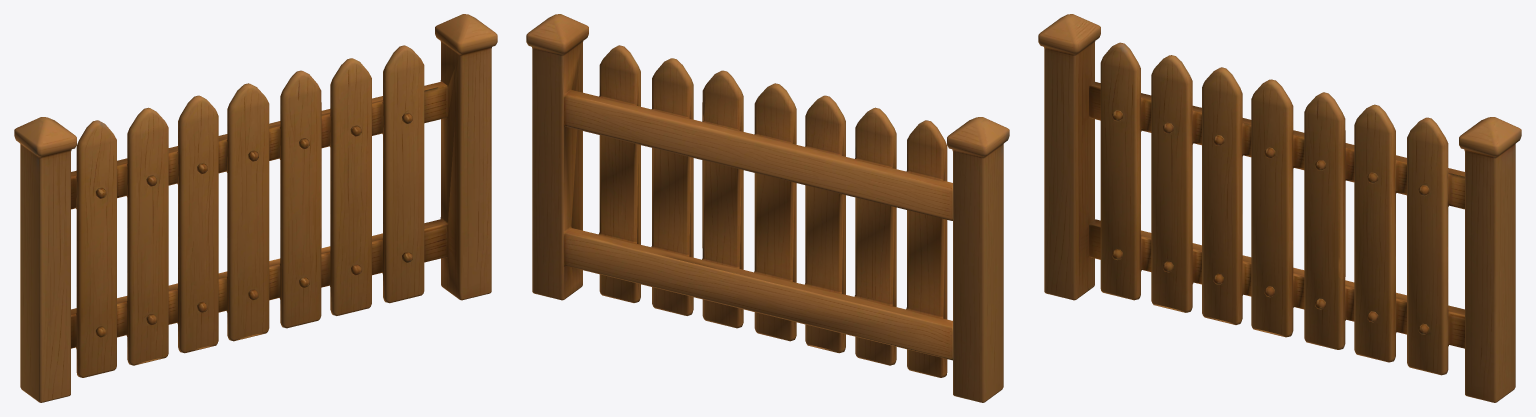
Rendered from Outdoor__a_wooden_fence_0a074075_v4.cluster.glb.
3 renders of one model, left to right at view 1: azimuth 30°, elevation 25°; view 2: azimuth 150°, elevation 25°; view 3: azimuth 330°, elevation 25°, orthographic.
Parts seen in each view (by area): view 1: material; view 2: material; view 3: material.
Part boxes in pixels (left/top/right/bottom): material: left=14, top=14, right=497, bottom=402; material: left=526, top=14, right=1009, bottom=402; material: left=1038, top=14, right=1521, bottom=402.
Size of the model in its own units: 1.9 by 1.08 by 0.1816.
Materials: 1 (1 with a texture image).
